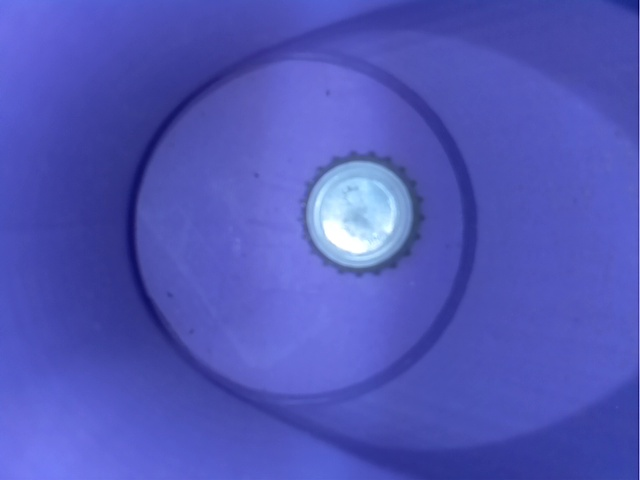capsule: (279, 145, 449, 285)
